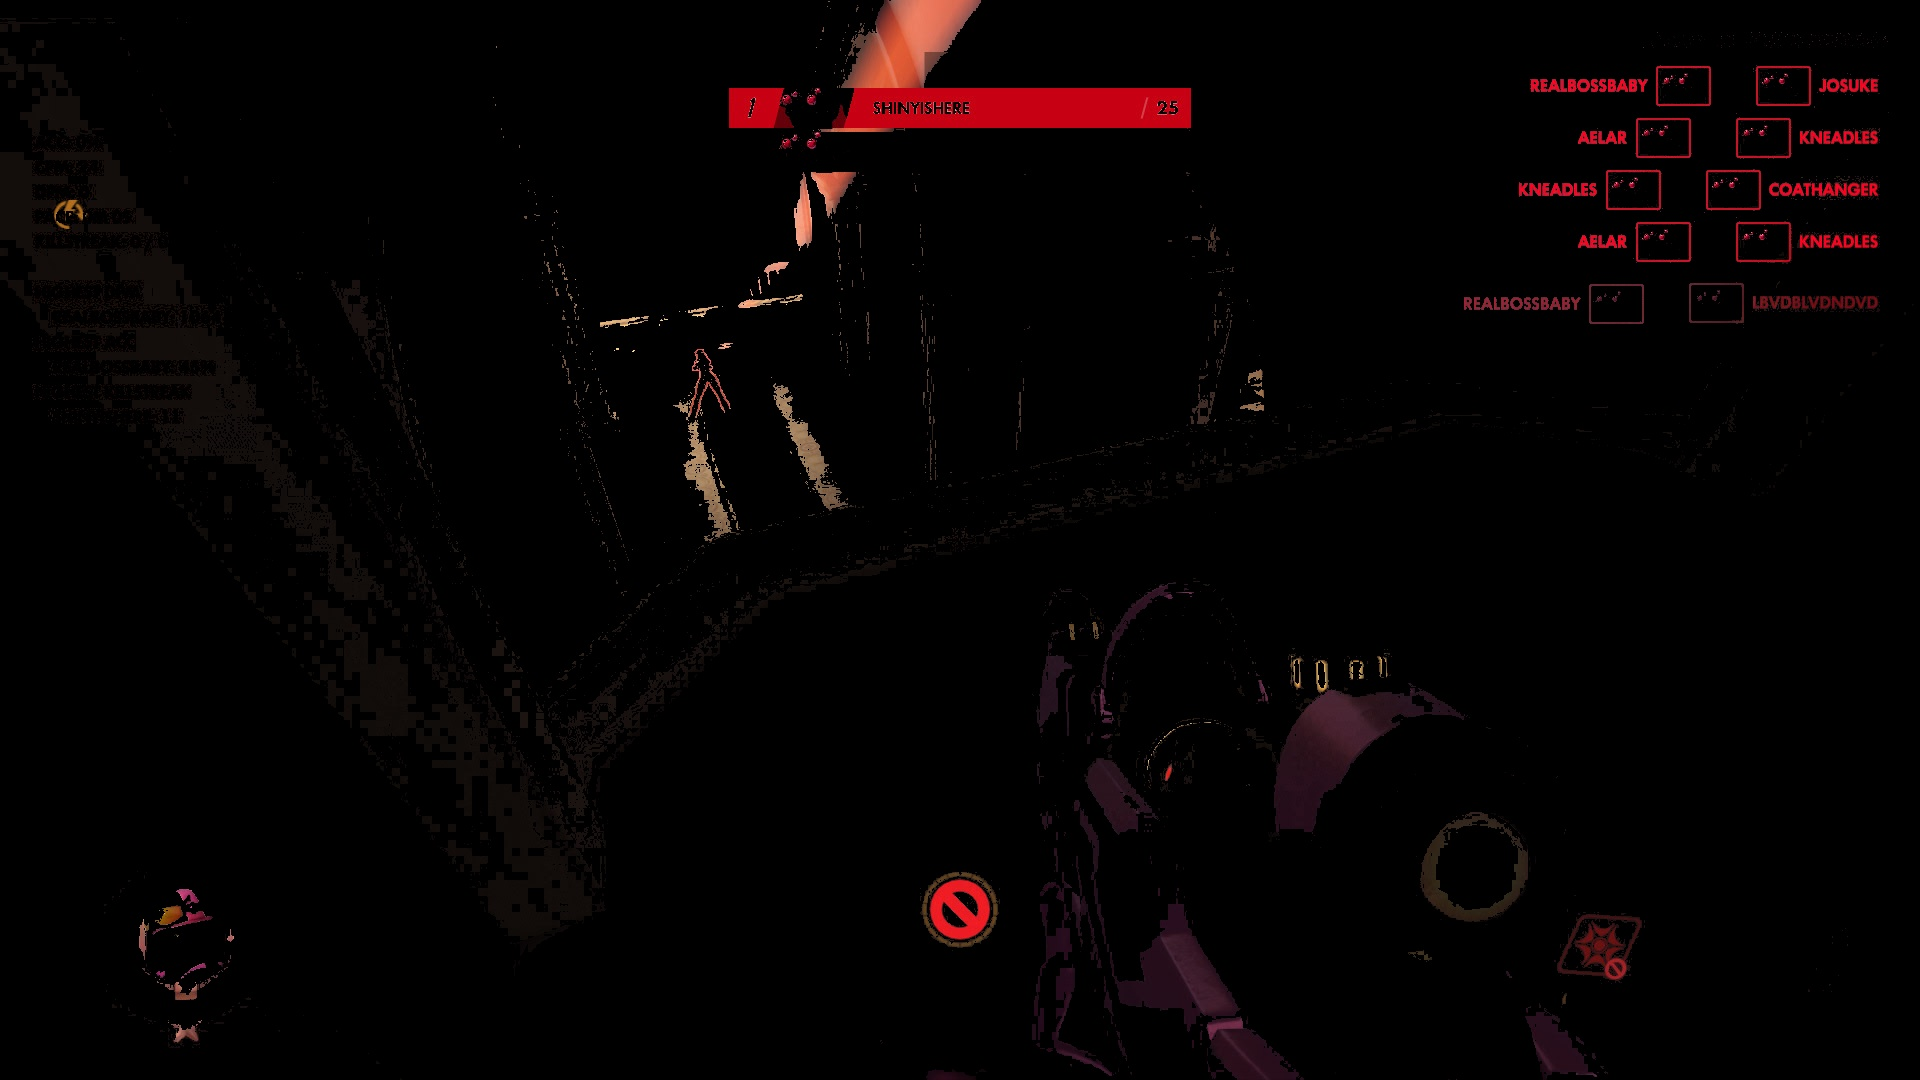widowmaker: (687, 348, 735, 425)
